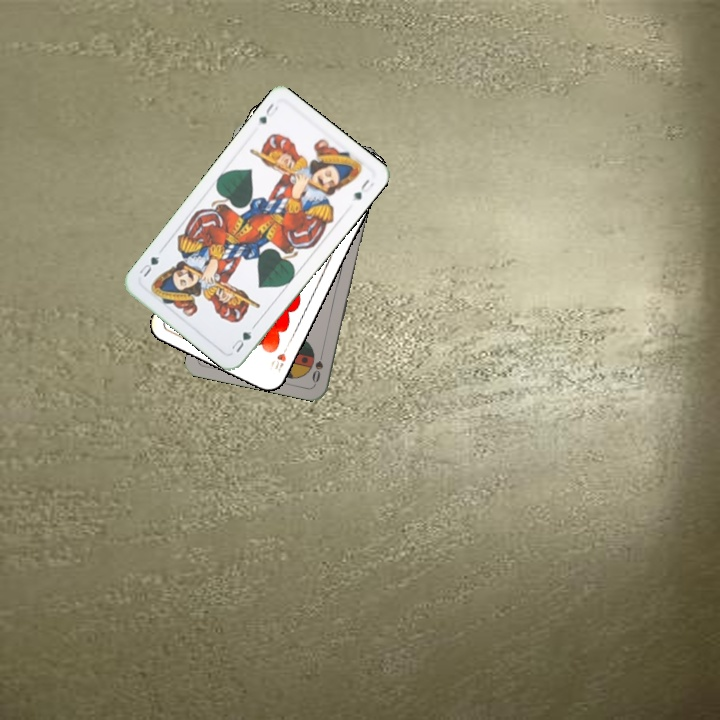GU: (227, 327, 254, 355), (254, 99, 281, 126)
H10: (266, 339, 292, 375)
SO: (308, 345, 326, 385)
